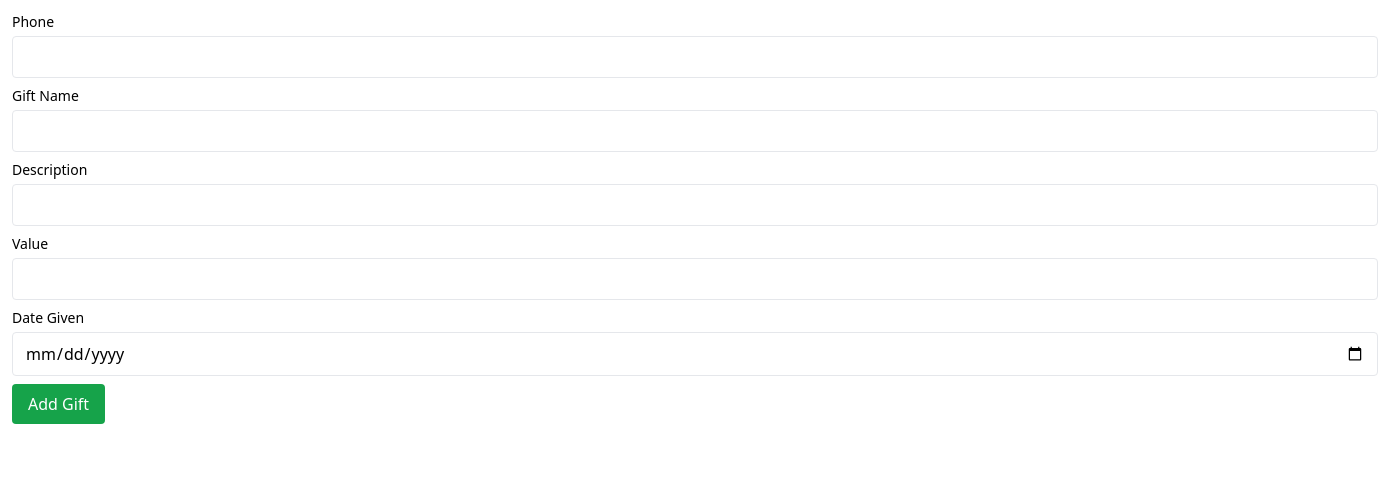
Test: Gift donor phone suggestions › waits for three digits and debounces database searches
The image size is (1390, 487).
Type "98" into the field with id "gift-phone".
click(695, 57); type("98")  # box [12,36,1378,78]
Wait 300 ms
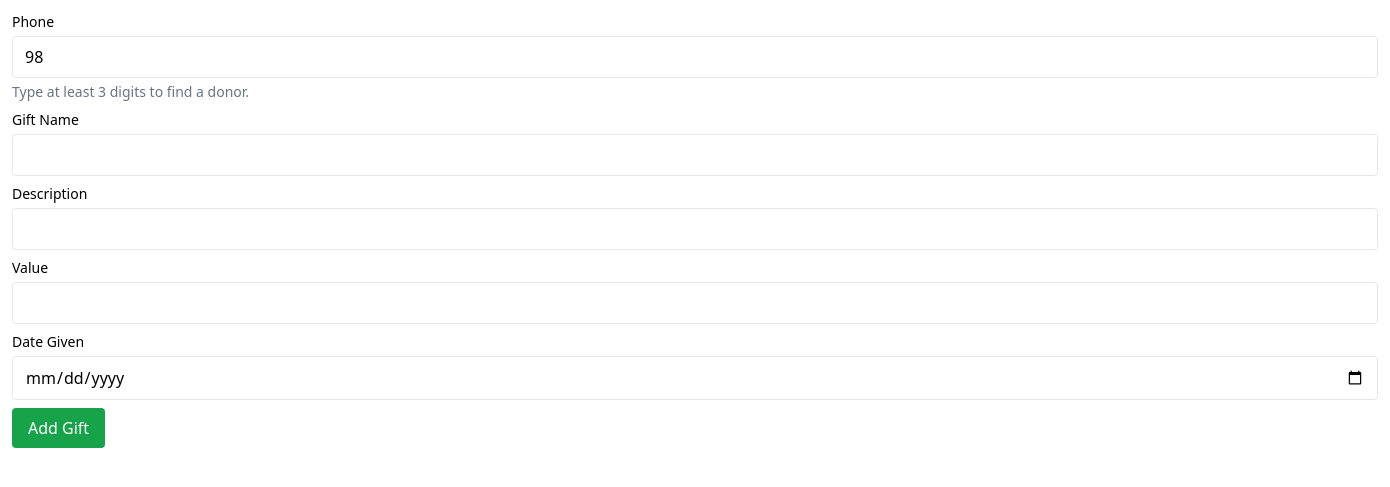
Replace the text in the field with id "gift-phone" with "987" at (695, 57), box [12,36,1378,78]
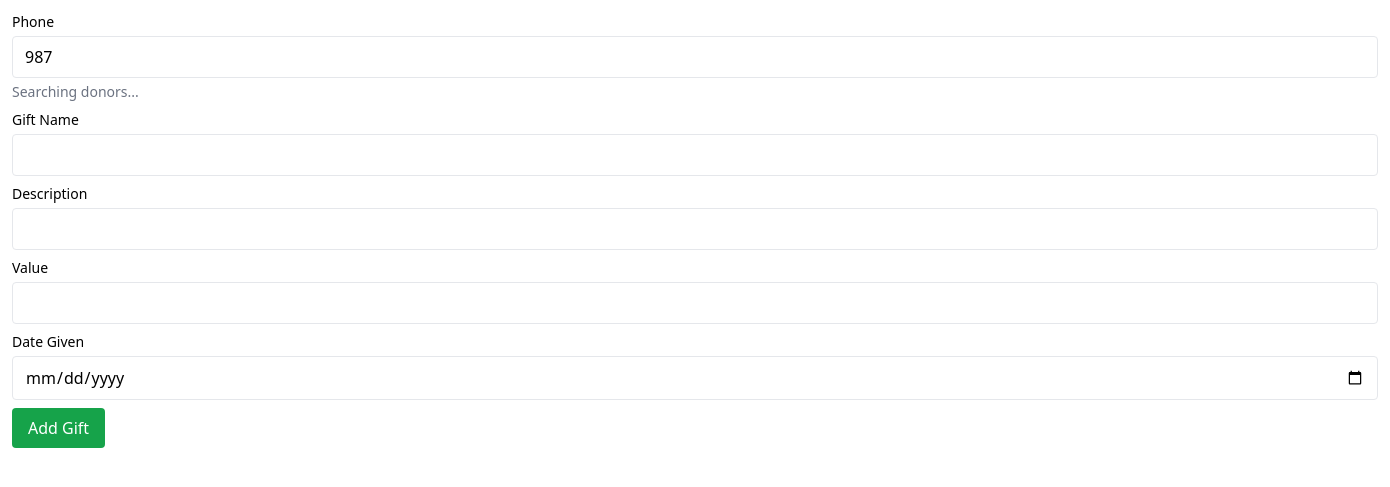
Replace the text in the field with id "gift-phone" with "9876" at (695, 57), box [12,36,1378,78]
Wait 300 ms
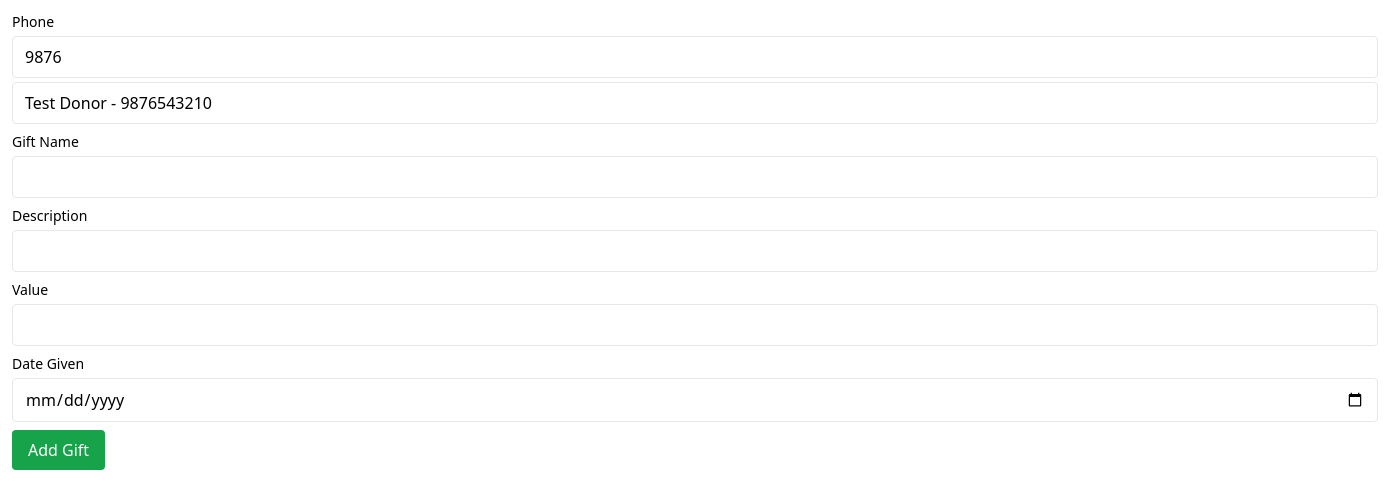
Expected: the text "Test Donor - 9876543210" is shown, [13,83,1377,123]
